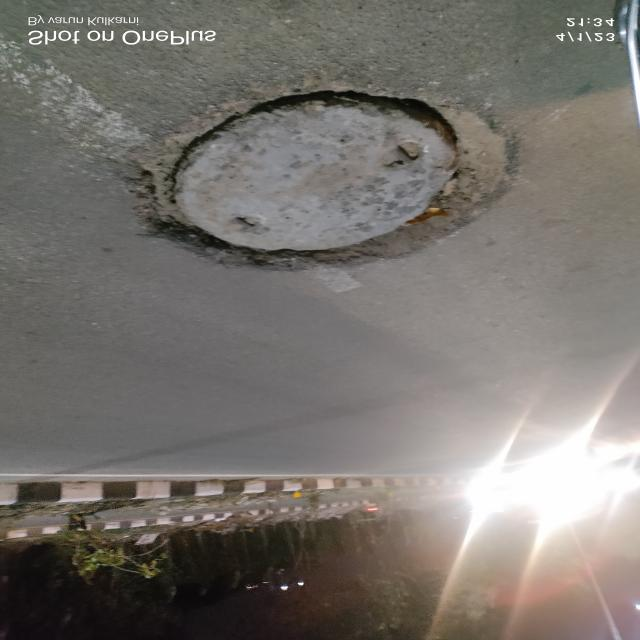manhole: (107, 77, 534, 270)
